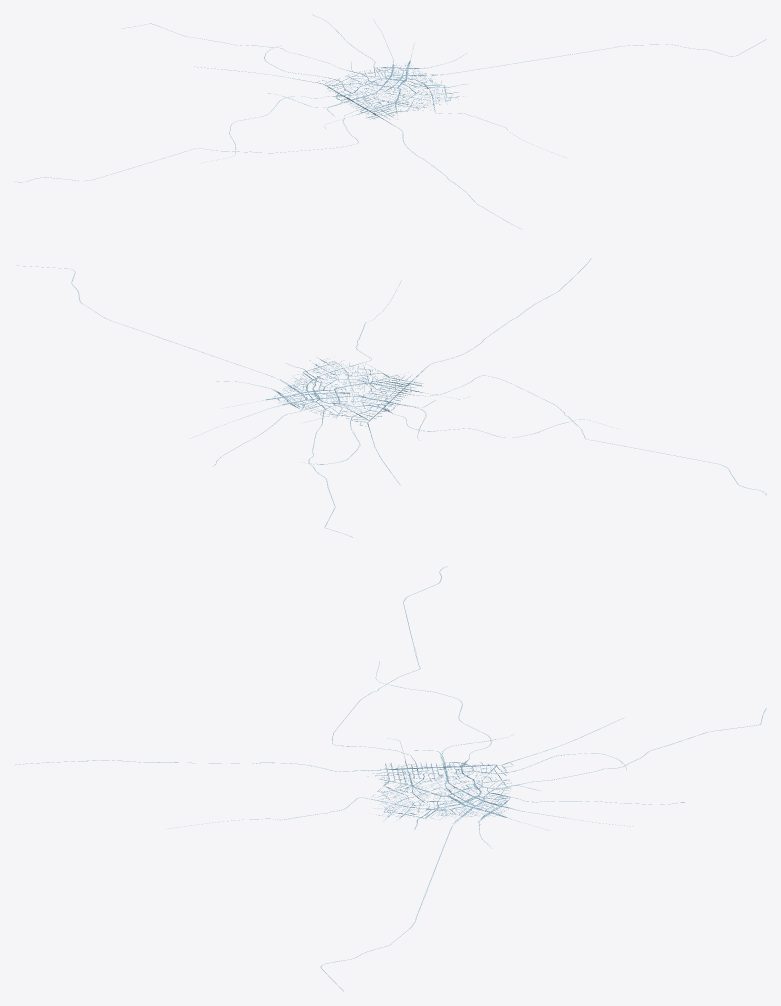
The model's file is roads.glb.
3 views of the same model, one above another, from view 1: azimuth 30°, elevation 25°; view 2: azimuth 150°, elevation 25°; view 3: azimuth 270°, elevation 25° (orthographic). The views are drawn at different scales.
Parts seen in each view (by area): view 1: roads; view 2: roads; view 3: roads.
Boxes of the visible parts, bbox=[...] form: roads: bbox=[14, 14, 766, 229]; roads: bbox=[17, 258, 766, 537]; roads: bbox=[15, 566, 766, 991].
Size of the model in its own units: 19951 by 34.1 by 14926.
